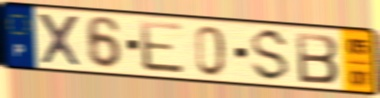0: (194, 24, 228, 78)
6: (84, 14, 125, 72)
B: (294, 30, 341, 86)
E: (136, 18, 187, 77)
S: (249, 27, 292, 84)
X: (35, 10, 84, 69)
